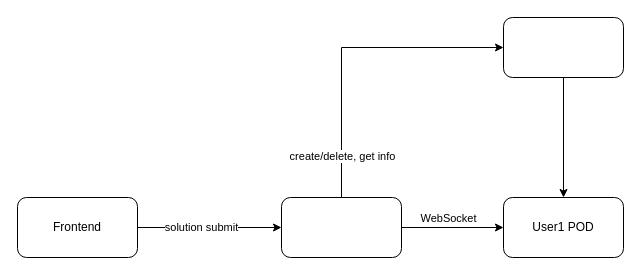
Image size: 641x275. Some labels were removed from this diagram. Here are the shapes that lost their labels. From the top down, the centre of each, then its label:
the point at 563,47: KubeAPI
the point at 341,227: test-runner
